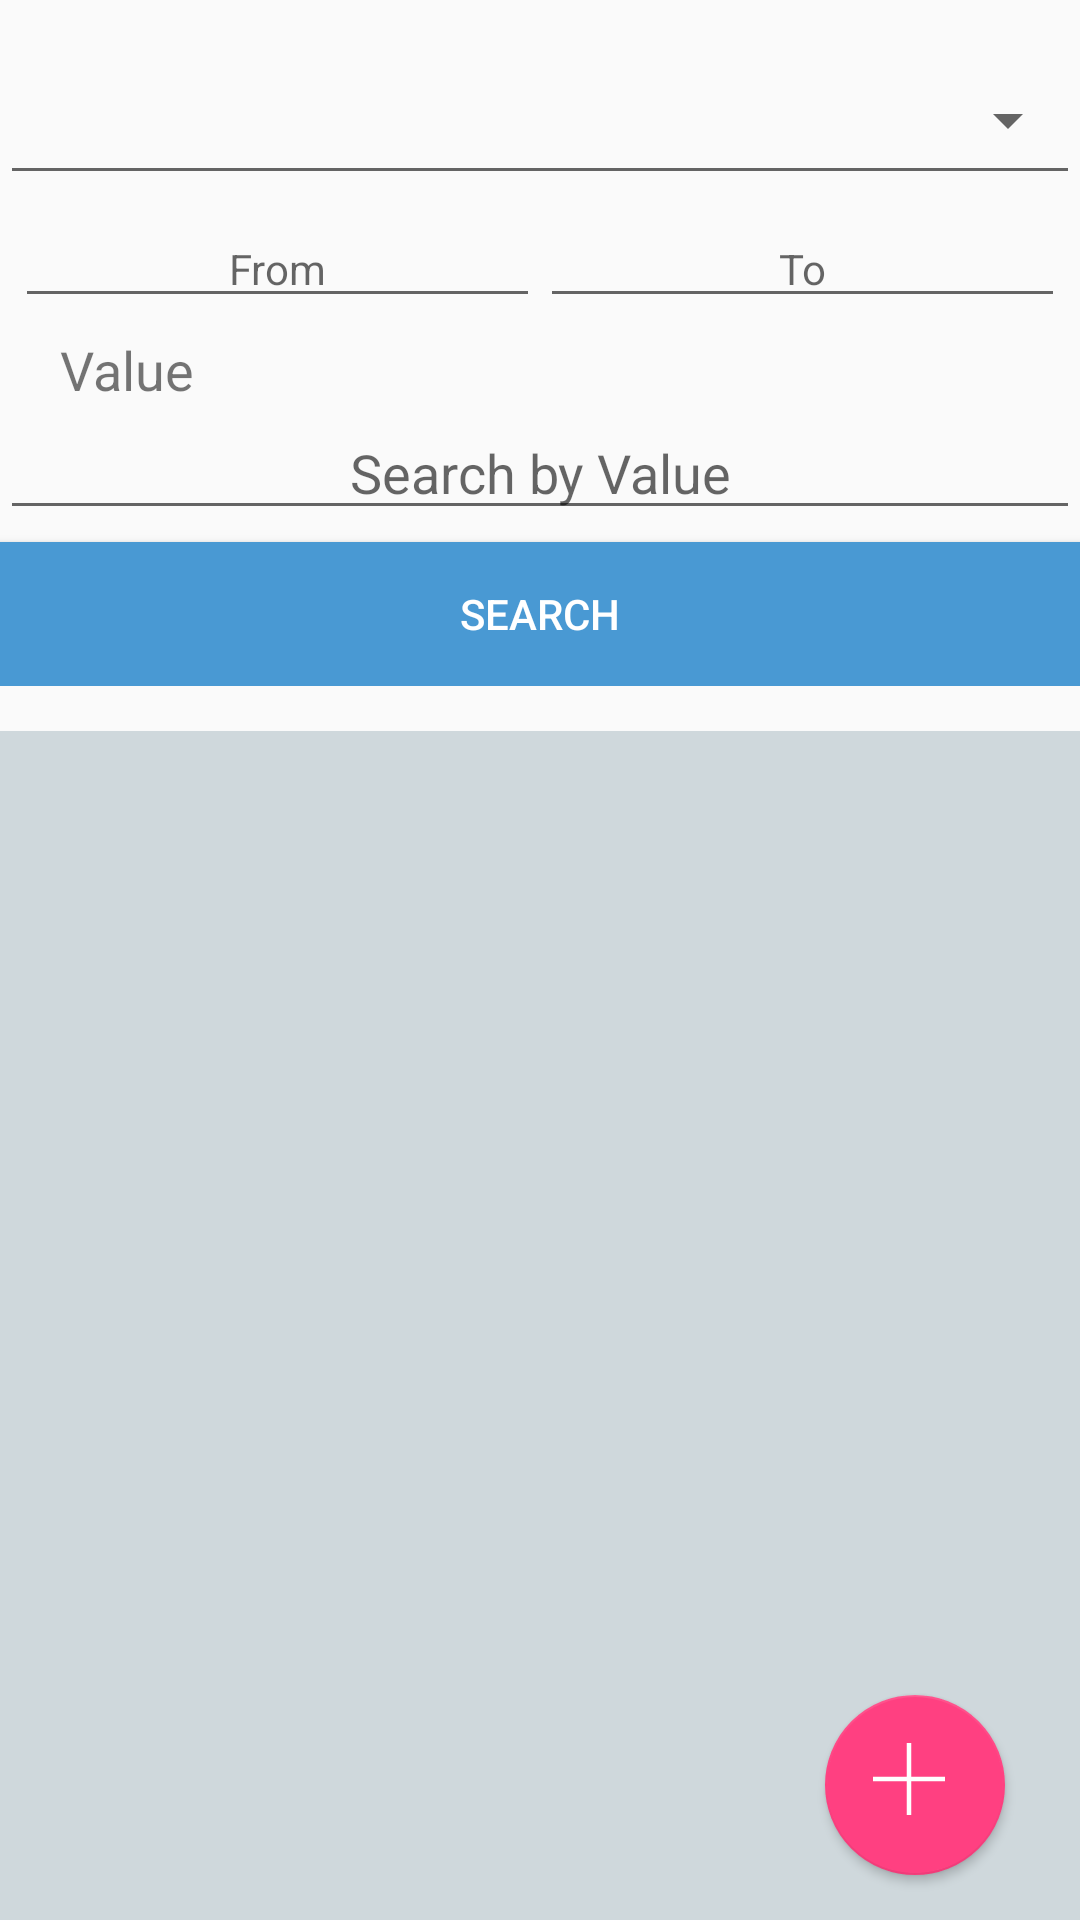

Icons on this 1080 × 1920 Android screen, each with its box as (x1, y1, x2, y2):
plus: (825, 1695, 1005, 1875)
